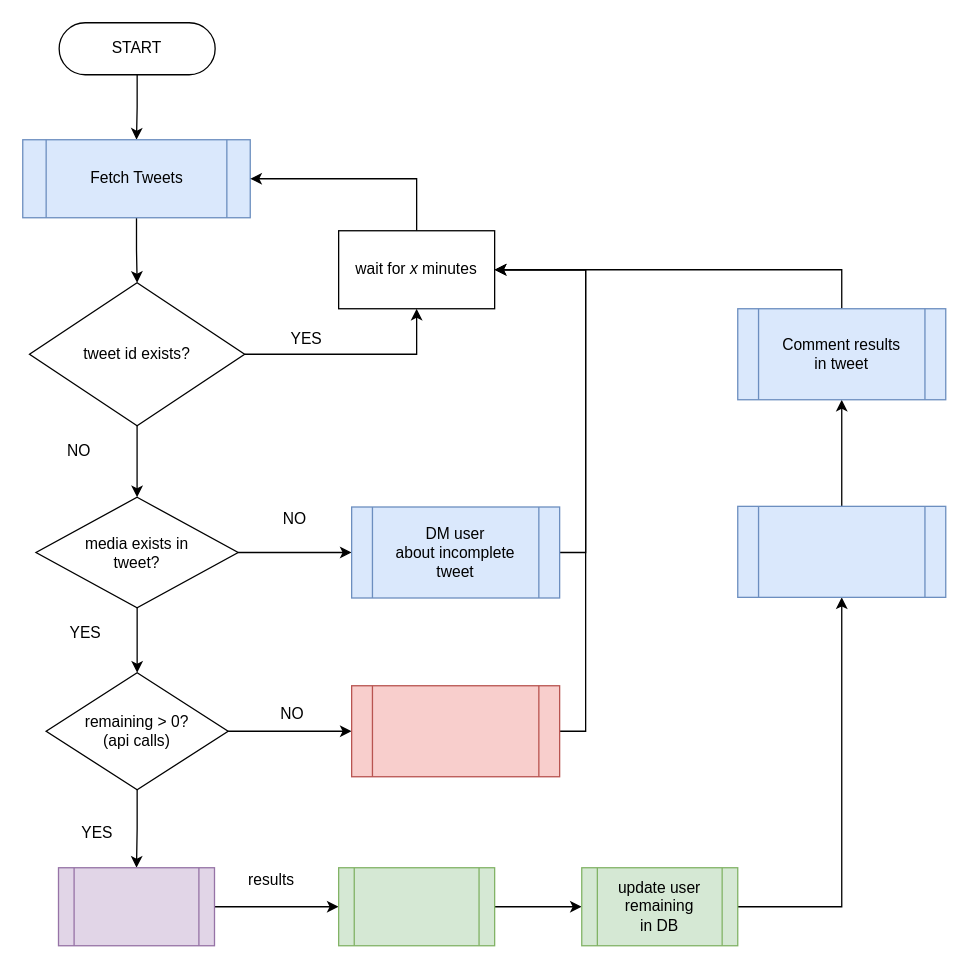
Image size: 968x968. Some labels were removed from this diagram. Each missing label, with the box of its shape:
Classification Response: (57, 866, 214, 946)
DM user about successful tweet and tell limit: (736, 505, 946, 597)
DM user limit exceeded: (350, 684, 560, 777)
insert video results in DB: (337, 866, 495, 946)
